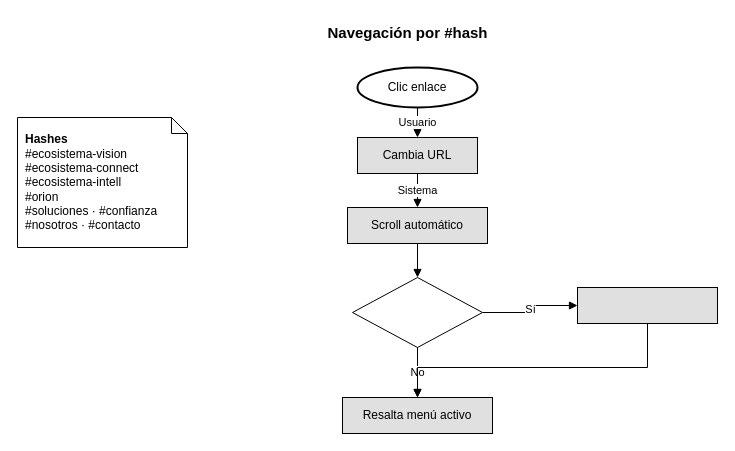
This 735x451 diagram has some shape labels left out. The box of each missing label's shape, as (x1, y1, x2, y2) in pixels:
Sync VISION/ORION: (576, 286, 718, 324)
¿Hash ecosistema?: (352, 276, 482, 348)
